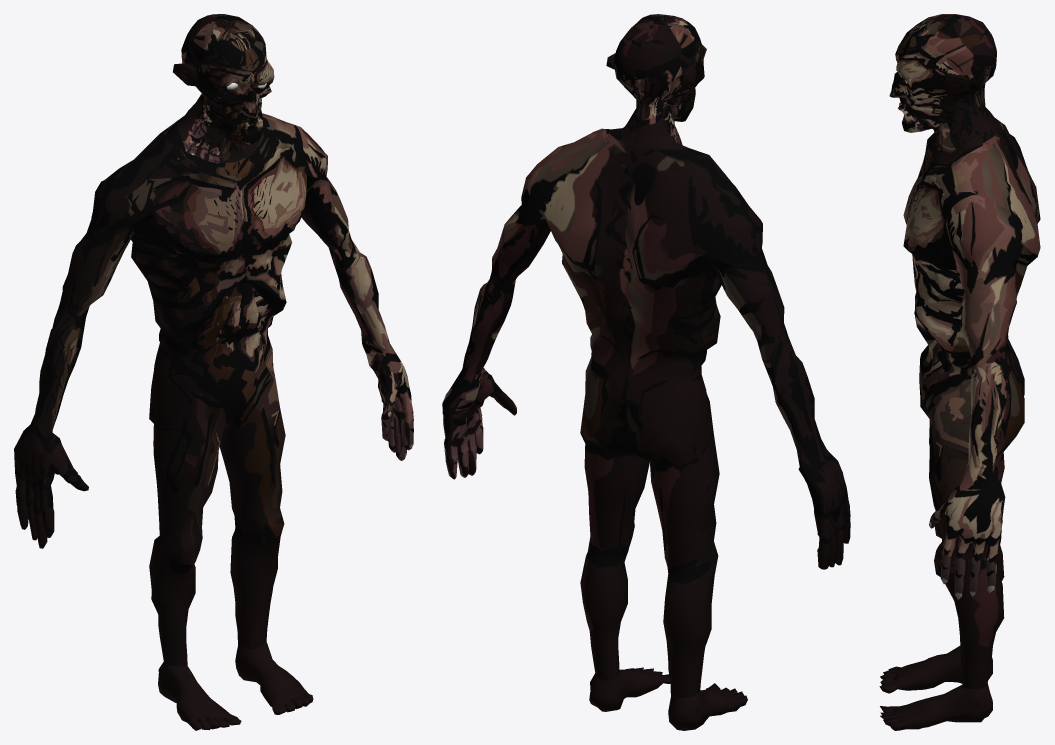
Rendered from Jean_Vichier_Closed.fbx.
3 renders of one model, left to right at view 1: azimuth 30°, elevation 25°; view 2: azimuth 150°, elevation 25°; view 3: azimuth 270°, elevation 25°, orthographic. The views are drawn at different scales.
Visible parts, largest first — view 1: Jean_Vichier_Body, Face.001; view 2: Jean_Vichier_Body, Face.001; view 3: Jean_Vichier_Body, Face.001.
Boxes of the visible parts, box(x1,y1,x2,y2) form: Jean_Vichier_Body: box(14, 113, 413, 730); Face.001: box(173, 14, 274, 163); Jean_Vichier_Body: box(442, 128, 850, 730); Face.001: box(606, 14, 706, 149); Jean_Vichier_Body: box(879, 117, 1040, 730); Face.001: box(889, 14, 996, 163).
Size of the model in its own units: 202 by 349 by 74.18.
